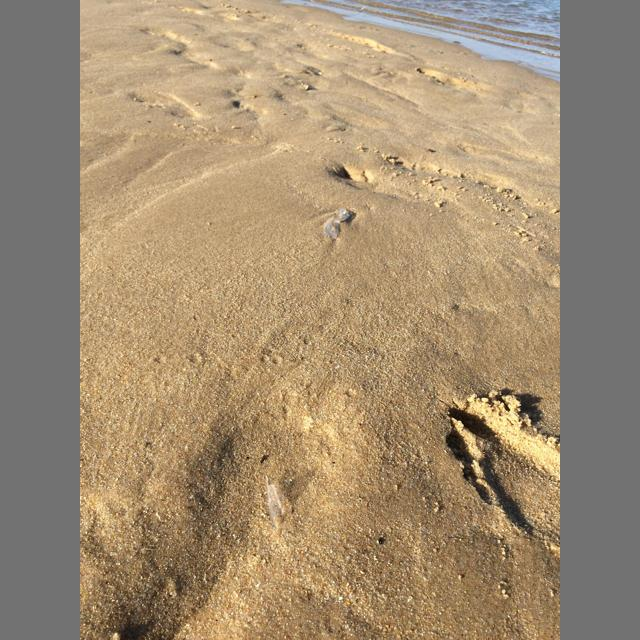litter: (265, 475, 282, 529), (323, 208, 350, 237)
